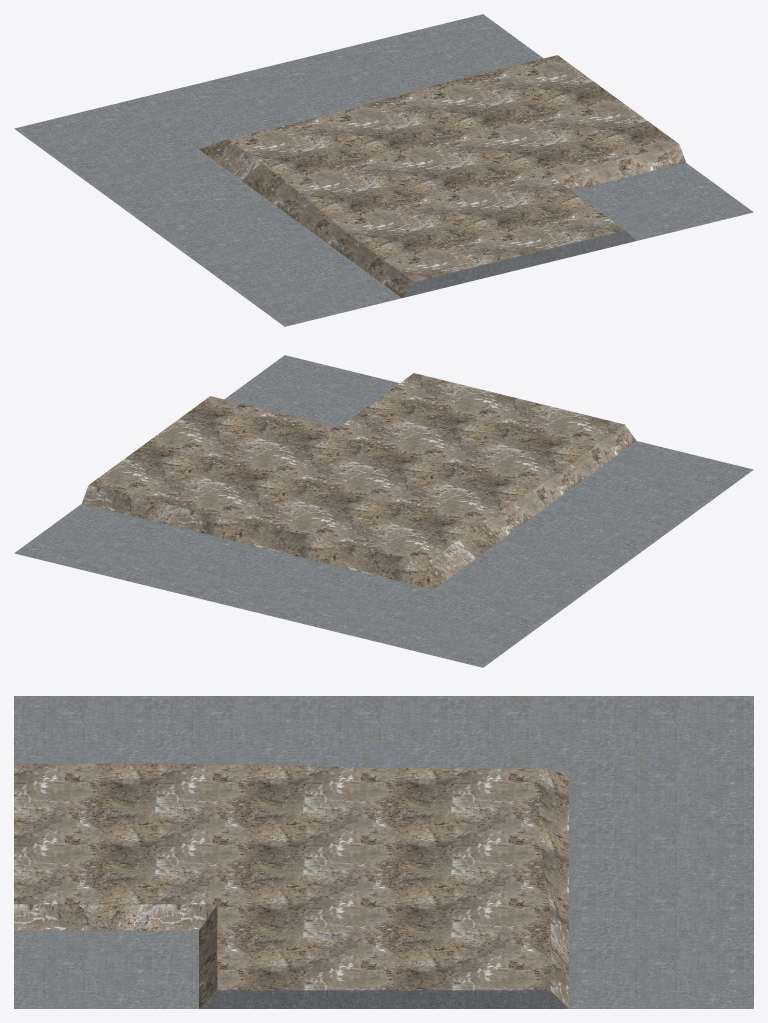
The picture shows the model from 3 angles, top to bottom: view 1: azimuth 30°, elevation 25°; view 2: azimuth 150°, elevation 25°; view 3: azimuth 270°, elevation 25°; orthographic projection. The views are drawn at different scales.
Parts seen in each view (by area): view 1: TexturesCom_ConcreteBare0398_7_seamless_S, TexturesCom_ConcreteRough0076_1_seamless_S; view 2: TexturesCom_ConcreteRough0076_1_seamless_S, TexturesCom_ConcreteBare0398_7_seamless_S; view 3: TexturesCom_ConcreteBare0398_7_seamless_S, TexturesCom_ConcreteRough0076_1_seamless_S.
Part boxes in pixels (x1,y1,x2,y2): TexturesCom_ConcreteBare0398_7_seamless_S: [14, 14, 753, 326]; TexturesCom_ConcreteRough0076_1_seamless_S: [199, 55, 685, 297]; TexturesCom_ConcreteRough0076_1_seamless_S: [82, 373, 636, 589]; TexturesCom_ConcreteBare0398_7_seamless_S: [14, 355, 753, 667]; TexturesCom_ConcreteBare0398_7_seamless_S: [14, 696, 753, 1008]; TexturesCom_ConcreteRough0076_1_seamless_S: [14, 763, 568, 1008].
Size of the model in its own units: 5 by 0.1384 by 5.
2 materials, 2 textured.
